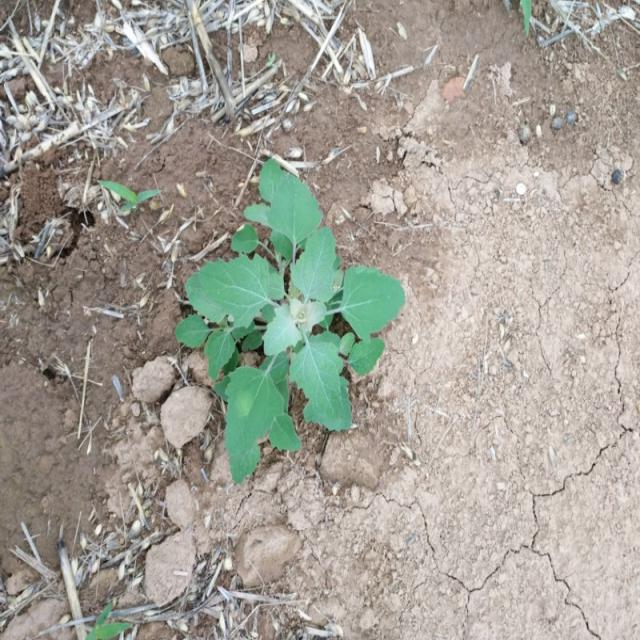goosefoots: (190, 162, 410, 464)
